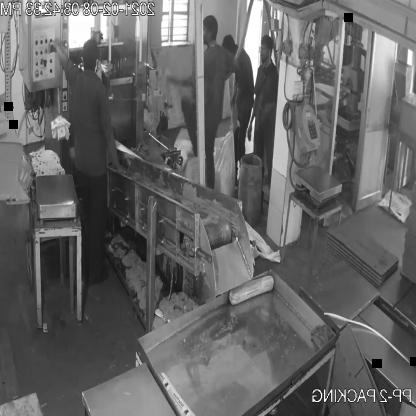no_glove: (96, 123, 128, 178), (48, 32, 73, 70)
